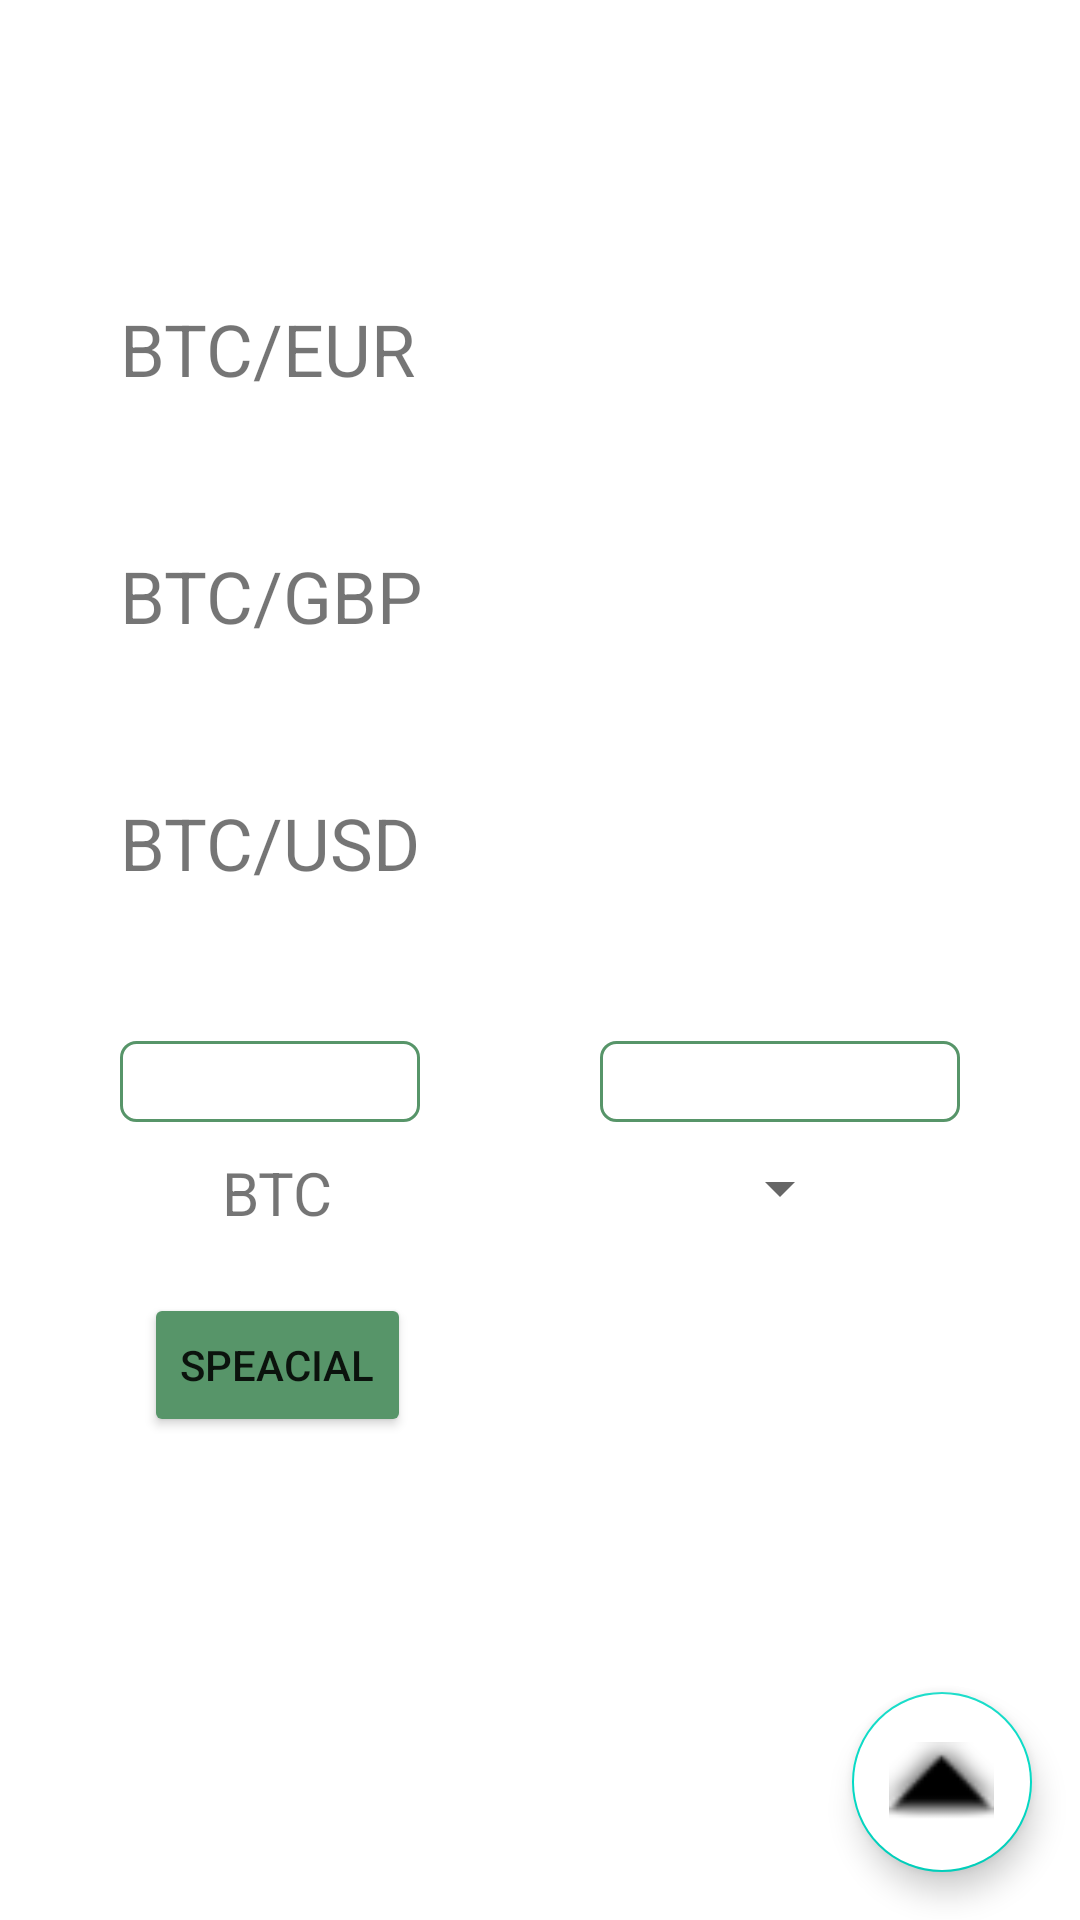

Icons on this 1080px×1920px Android screen, each with its box as (x1=x1, y1=y1, x2=x2, y2=y2):
arrow up float: (x1=889, y1=1745, x2=994, y2=1816)
